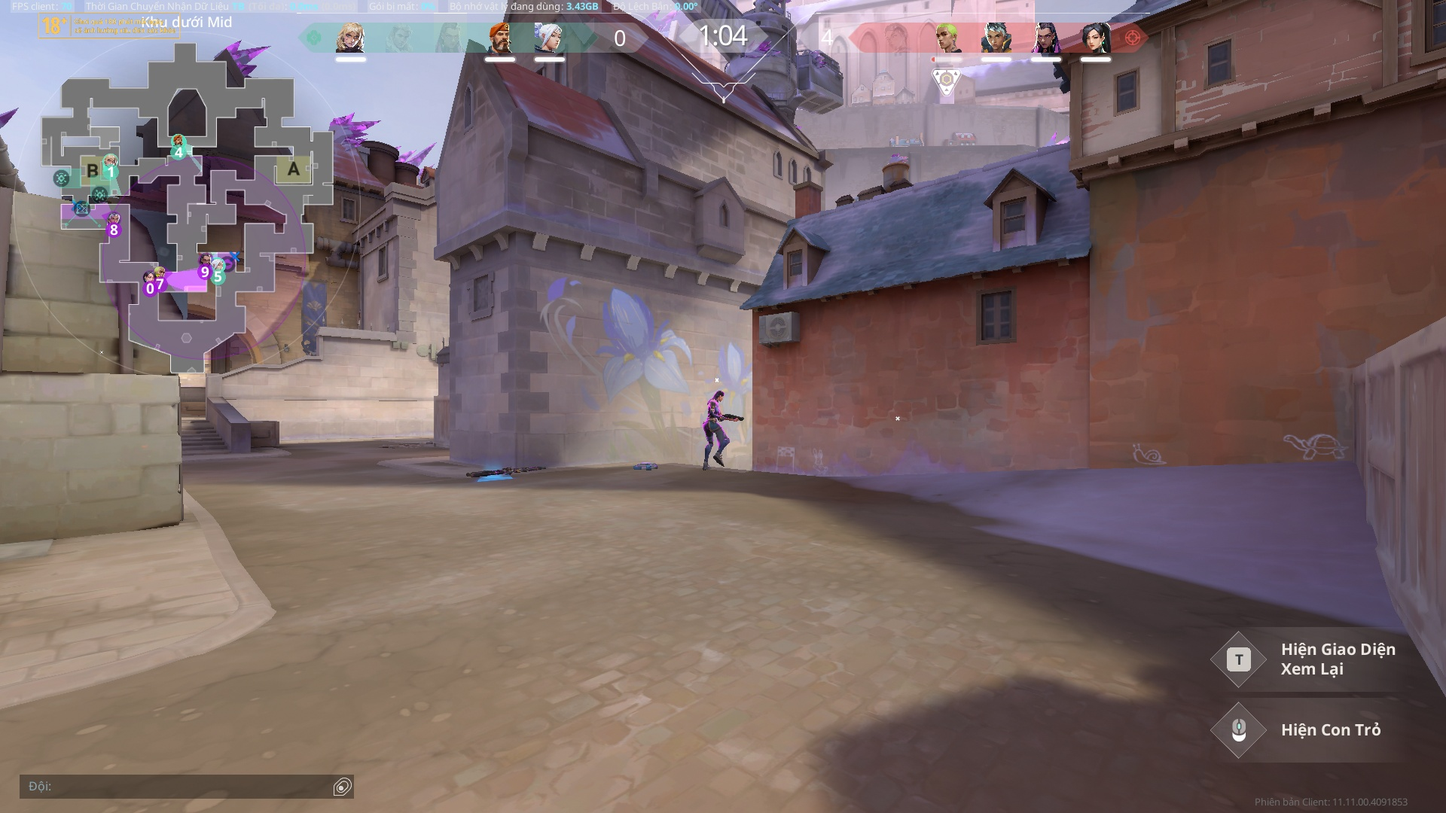body: (706, 397, 720, 420)
head: (713, 389, 725, 401)
